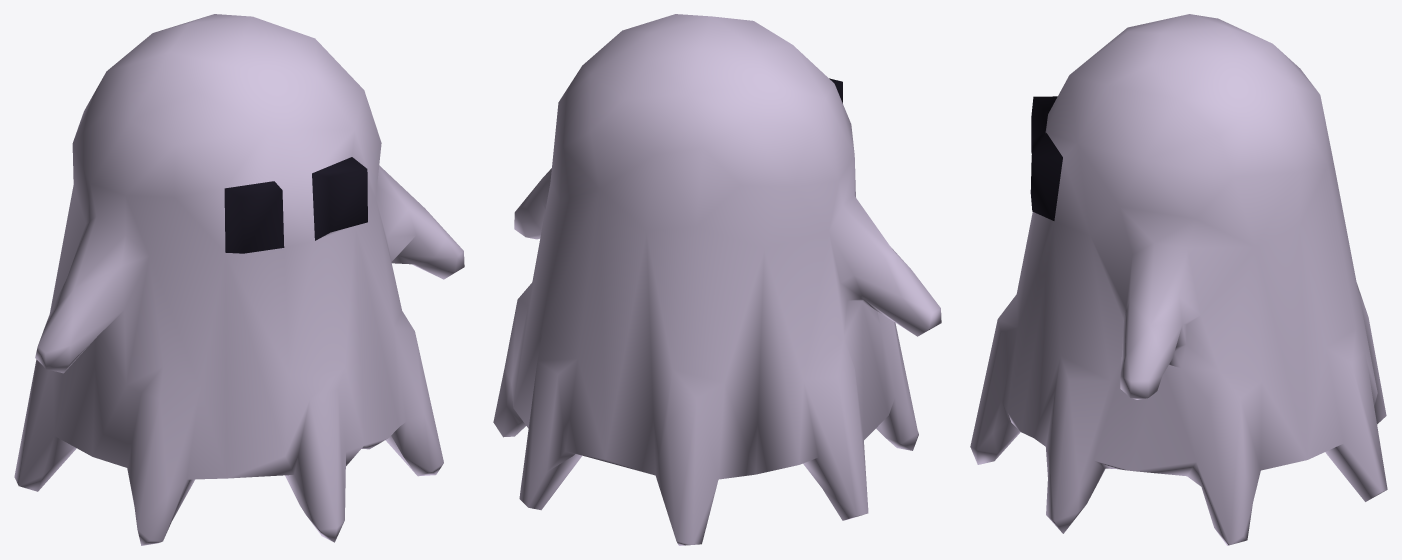
Rendered from wanderer.glb.
The picture shows the model from 3 angles, left to right: view 1: azimuth 30°, elevation 25°; view 2: azimuth 150°, elevation 25°; view 3: azimuth 270°, elevation 25°; orthographic projection.
Parts seen in each view (by area): view 1: wanderer; view 2: wanderer; view 3: wanderer.
Part boxes in pixels (x1,y1,x2,y2): wanderer: (14, 14, 464, 545); wanderer: (493, 14, 941, 545); wanderer: (970, 14, 1387, 545).
Bounding box in the file's own units: 1.18 × 1.18 × 1.03.
